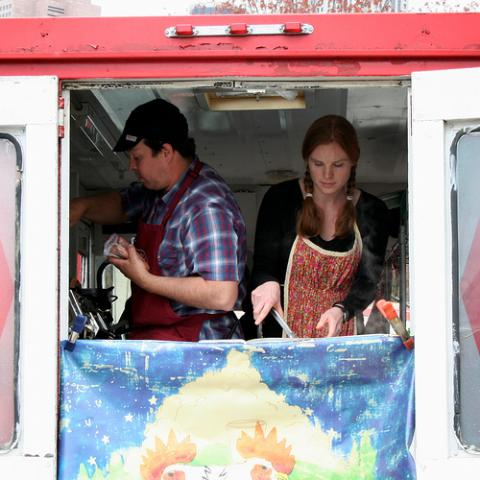truck: (2, 10, 479, 479)
